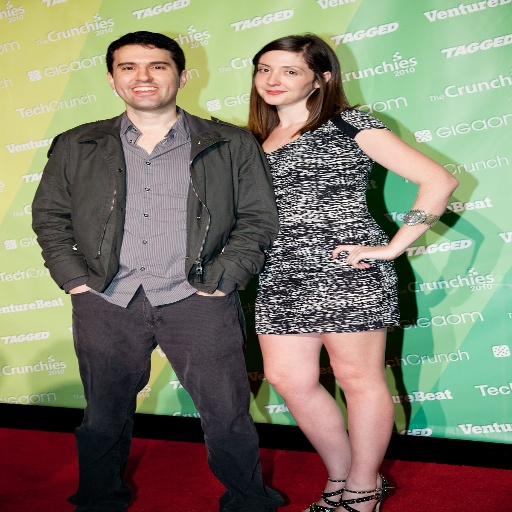hand: (348, 229, 407, 268), (194, 287, 224, 296), (66, 284, 91, 293)
